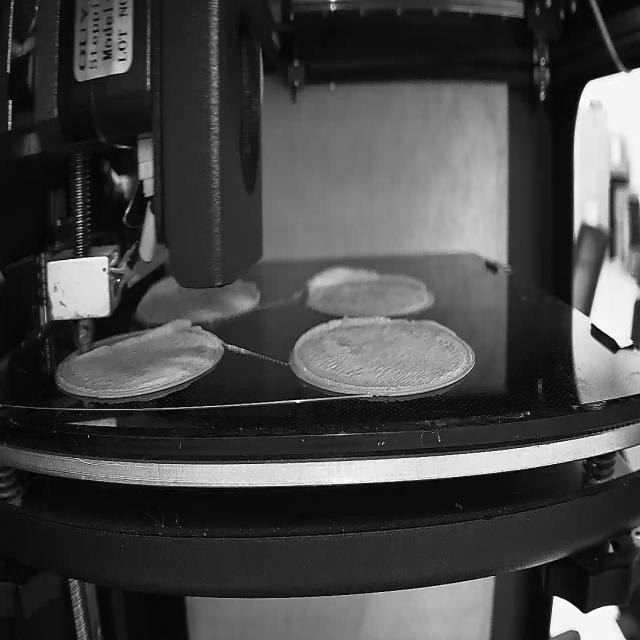over_extrusion: (294, 313, 395, 393), (74, 317, 198, 360), (304, 264, 379, 296), (387, 272, 429, 293), (415, 317, 456, 336)
